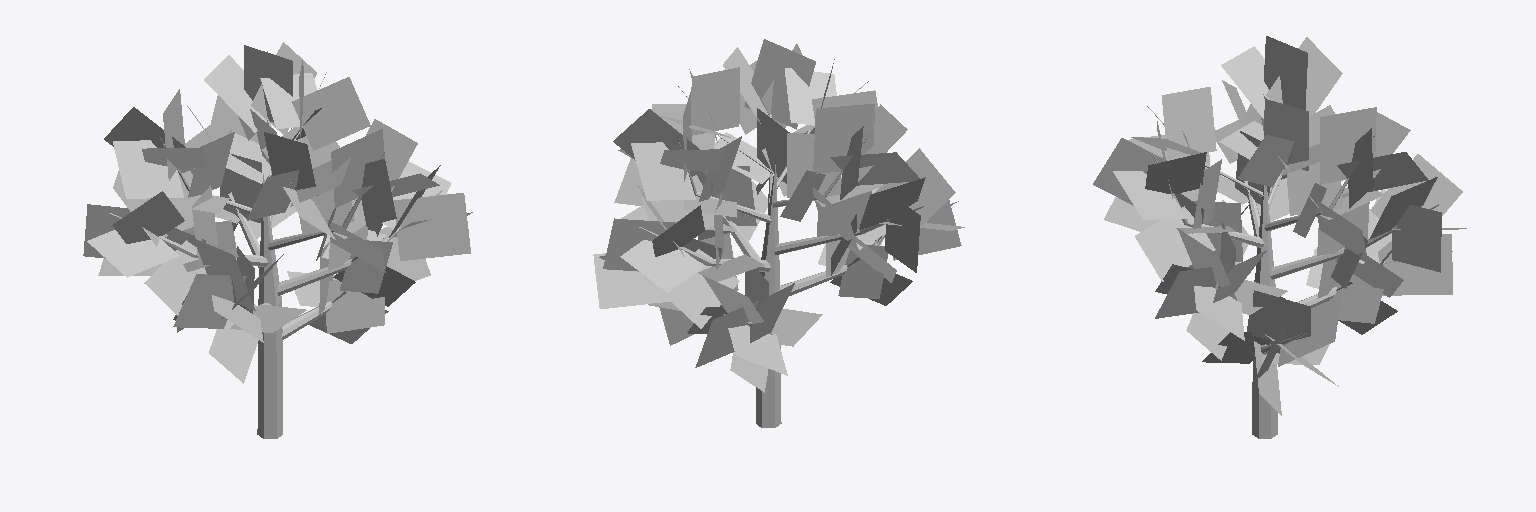
File: cherry.obj
3 renders of one model, left to right at view 1: azimuth 30°, elevation 25°; view 2: azimuth 150°, elevation 25°; view 3: azimuth 270°, elevation 25°, orthographic.
Visible parts, largest first — view 1: plant; view 2: plant; view 3: plant.
Part boxes in pixels (left/top/right/bottom): plant: left=83, top=42, right=472, bottom=438; plant: left=593, top=39, right=964, bottom=427; plant: left=1093, top=36, right=1466, bottom=438.
Bounding box in the file's own units: 20.74 × 19.66 × 19.11.